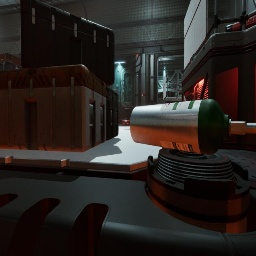0: (130, 99, 256, 155)
FireExtinguisher ]: (225, 16, 256, 32), (180, 96, 182, 97)
FirstAidBox ,: (122, 118, 130, 125)
